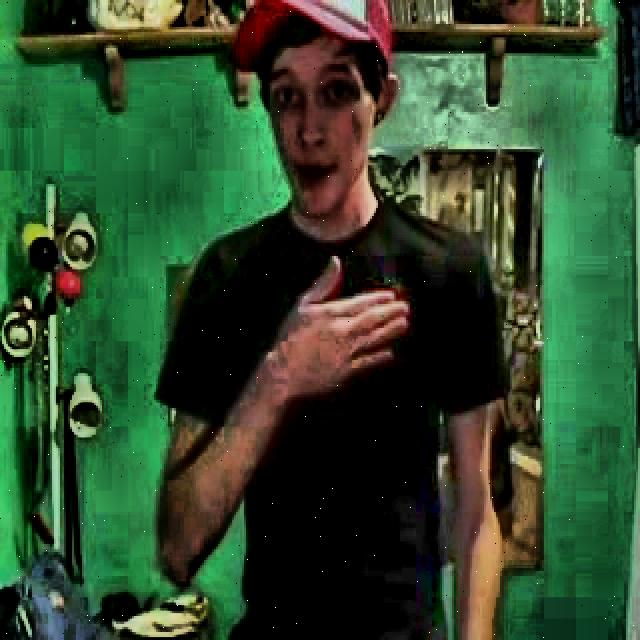F: (155, 6, 502, 635)
